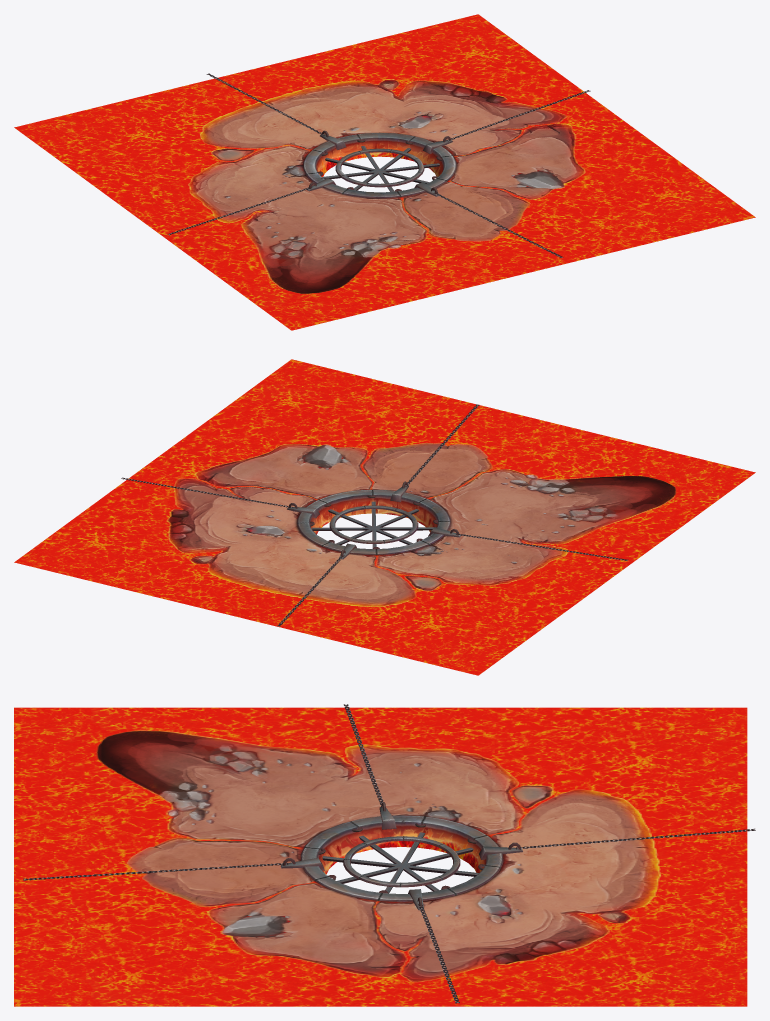
Rendered from dibiao.FBX.
3 renders of one model, top to bottom at view 1: azimuth 30°, elevation 25°; view 2: azimuth 150°, elevation 25°; view 3: azimuth 270°, elevation 25°, orthographic. The views are drawn at different scales.
Parts seen in each view (by area): view 1: dibiao, tielian; view 2: dibiao, tielian; view 3: dibiao, tielian.
Part boxes in pixels (<box>): dibiao: <box>14,14,755,330</box>; tielian: <box>167,73,590,257</box>; dibiao: <box>14,359,755,675</box>; tielian: <box>121,404,628,626</box>; dibiao: <box>14,707,747,1006</box>; tielian: <box>23,704,755,1003</box>.
Size of the model in its own units: 1713 by 76.98 by 1787.
